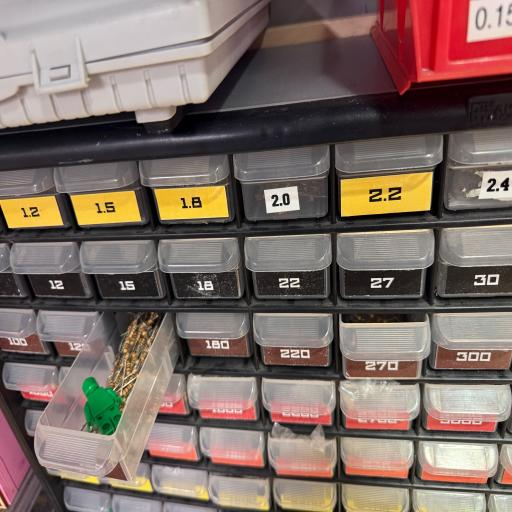Lego-Dude: (82, 377, 122, 435)
